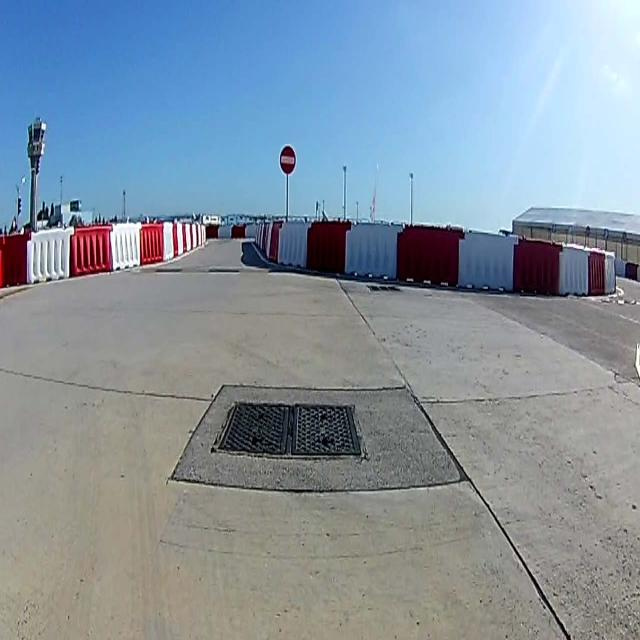girisyok: (280, 145, 296, 174)
